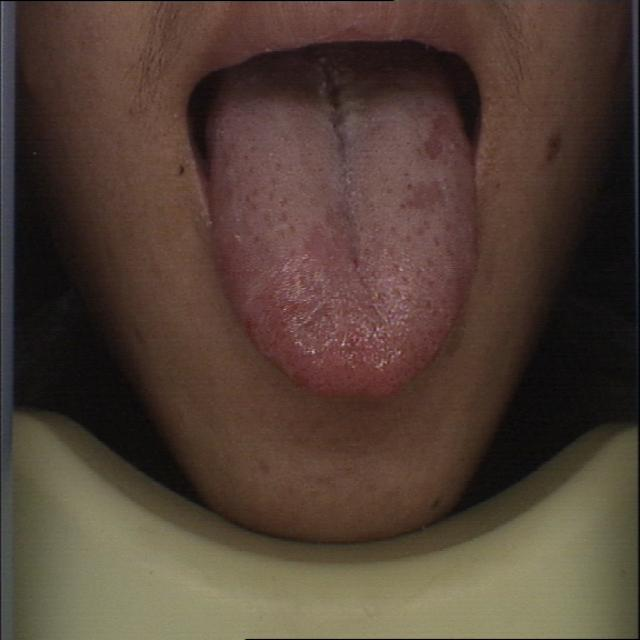tongue: (202, 66, 488, 406)
